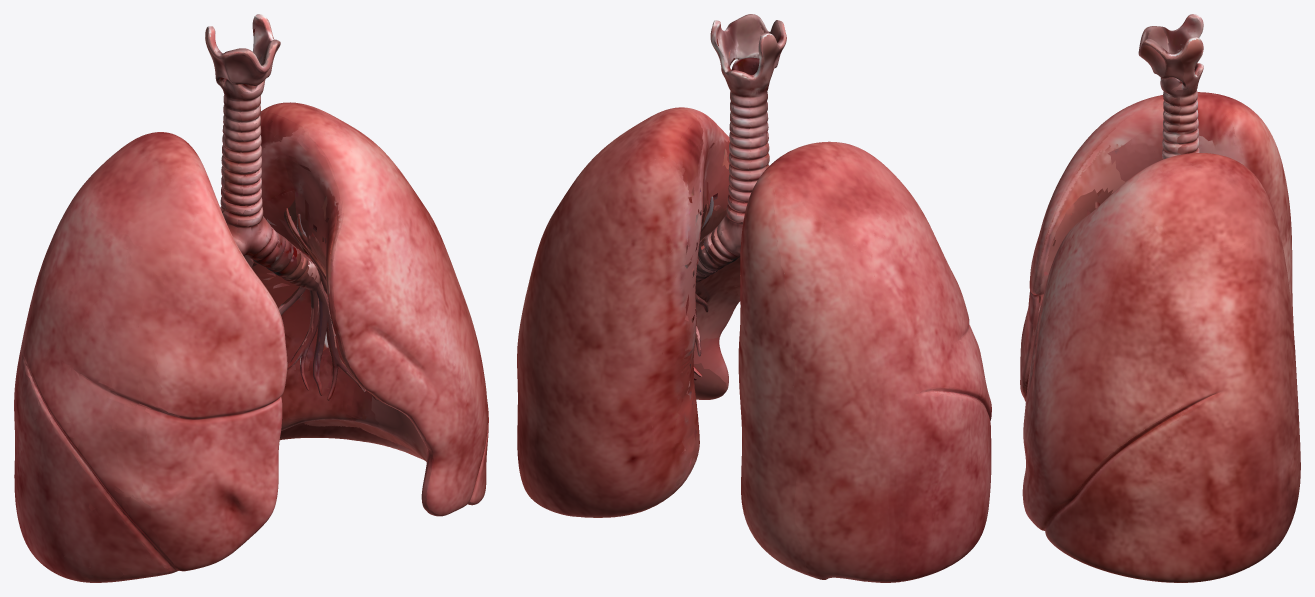
Rendered from stomach.glb.
3 renders of one model, left to right at view 1: azimuth 30°, elevation 25°; view 2: azimuth 150°, elevation 25°; view 3: azimuth 270°, elevation 25°, orthographic. The views are drawn at different scales.
Parts seen in each view (by area): view 1: geometry_0; view 2: geometry_0; view 3: geometry_0.
Part boxes in pixels (x1,y1,x2,y2): geometry_0: (14,14,488,582); geometry_0: (517,14,991,582); geometry_0: (1020,14,1300,582).
Bounding box in the file's own units: 0.8221 × 0.9069 × 0.4975.
Materials: 1 (1 with a texture image).
